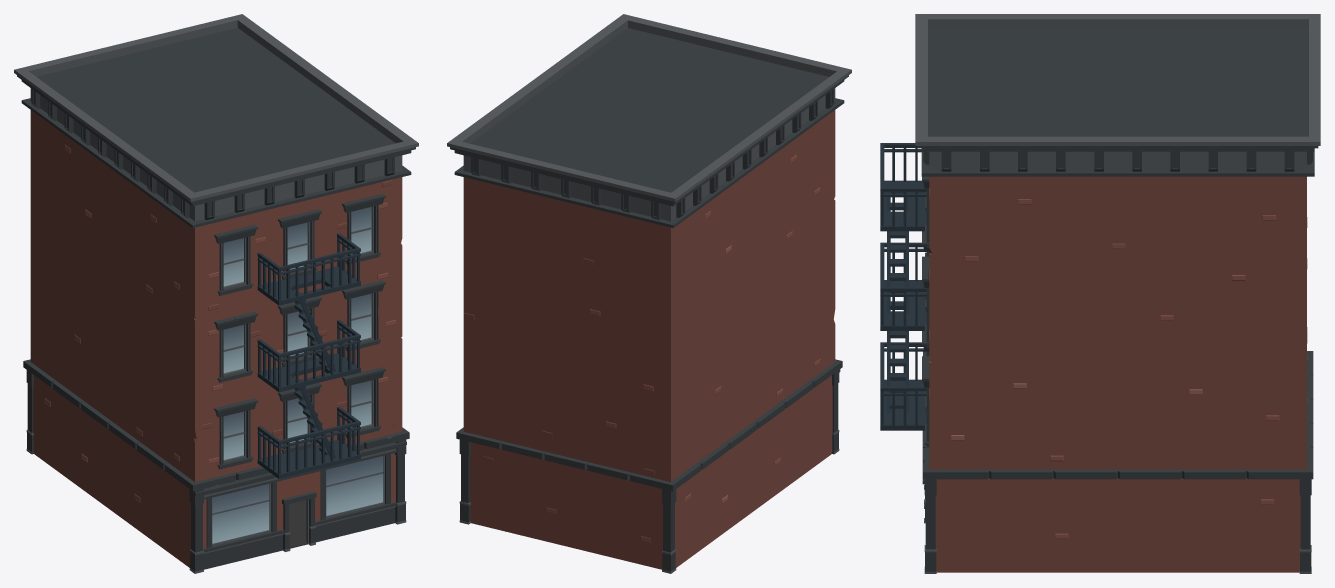
File: SM_Buildings_House_13_V1.fbx
3 views of the same model, side by side, from view 1: azimuth 30°, elevation 25°; view 2: azimuth 150°, elevation 25°; view 3: azimuth 270°, elevation 25° (orthographic). The views are drawn at different scales.
Visible parts, largest first — view 1: SM_Buildings_House_13_V1; view 2: SM_Buildings_House_13_V1; view 3: SM_Buildings_House_13_V1.
Boxes of the visible parts, bbox=[...] form: SM_Buildings_House_13_V1: bbox=[14, 14, 418, 573]; SM_Buildings_House_13_V1: bbox=[447, 14, 851, 573]; SM_Buildings_House_13_V1: bbox=[880, 14, 1320, 573].
Size of the model in its own units: 11 by 17.5 by 16.
